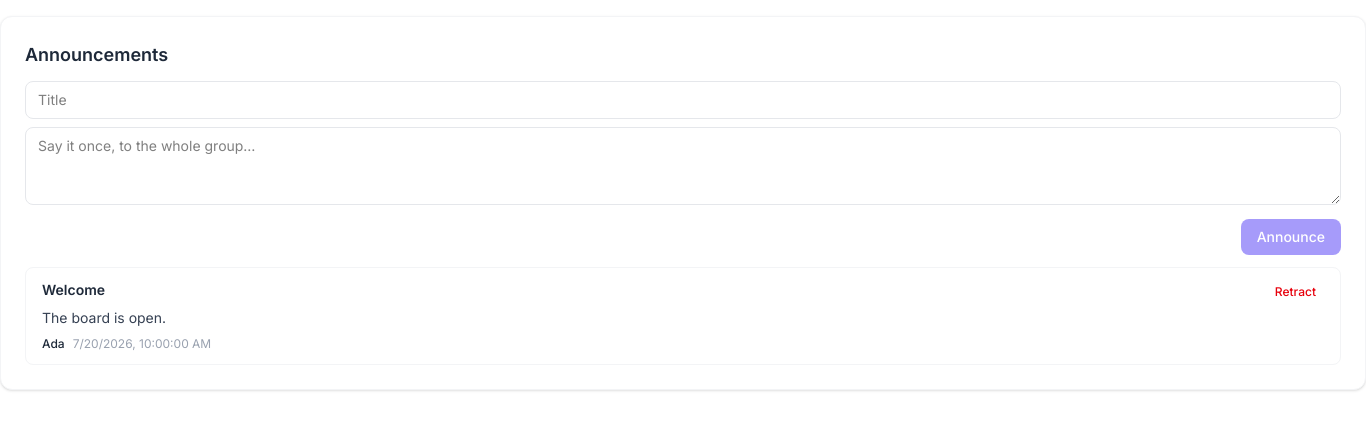
GroupAnnouncementsSection › preserves the composed draft when a send is refused
Expected: the heading "Welcome" is shown, x1=42 y1=280 x2=105 y2=300
Step 1. Type "Kept title" into the field with test id "announcement-compose-title" → (683, 100), box x1=25 y1=81 x2=1341 y2=119
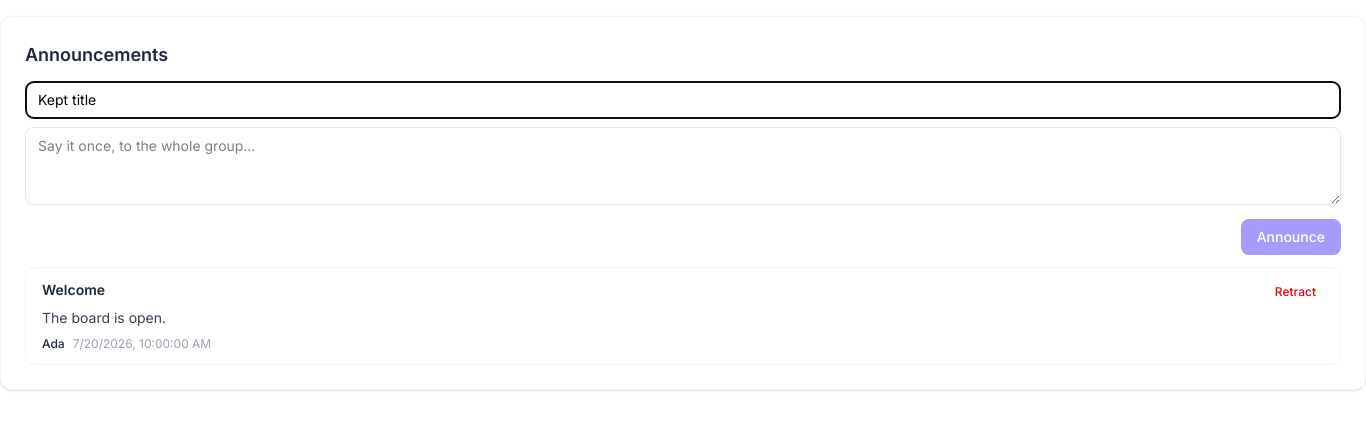
Step 2. Type "Kept body" into the text box with test id "announcement-compose-body" → (683, 166), box x1=25 y1=127 x2=1341 y2=205
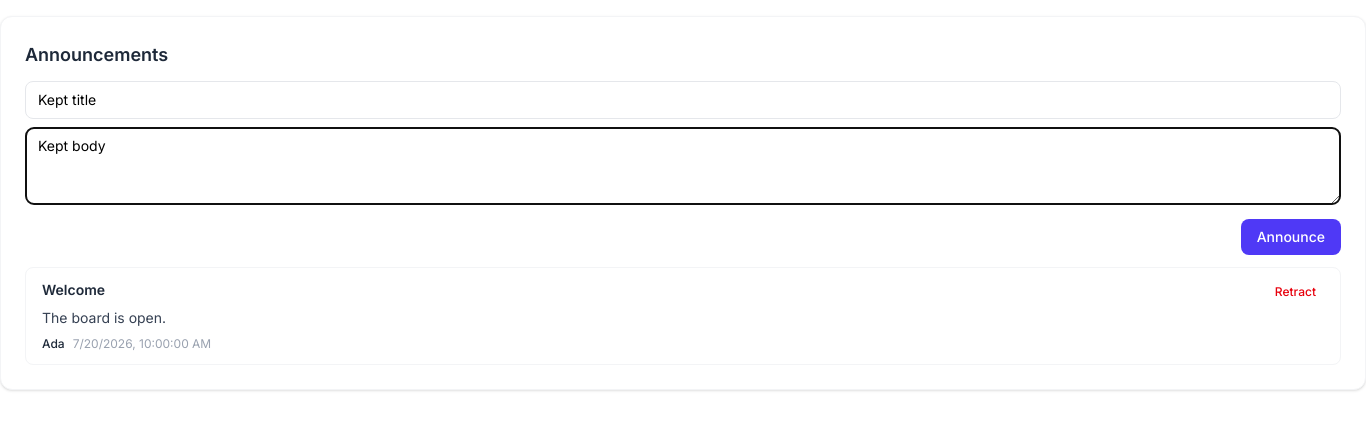
Step 3. Click the button with test id "announcement-send" → (1291, 237), box x1=1241 y1=219 x2=1341 y2=255
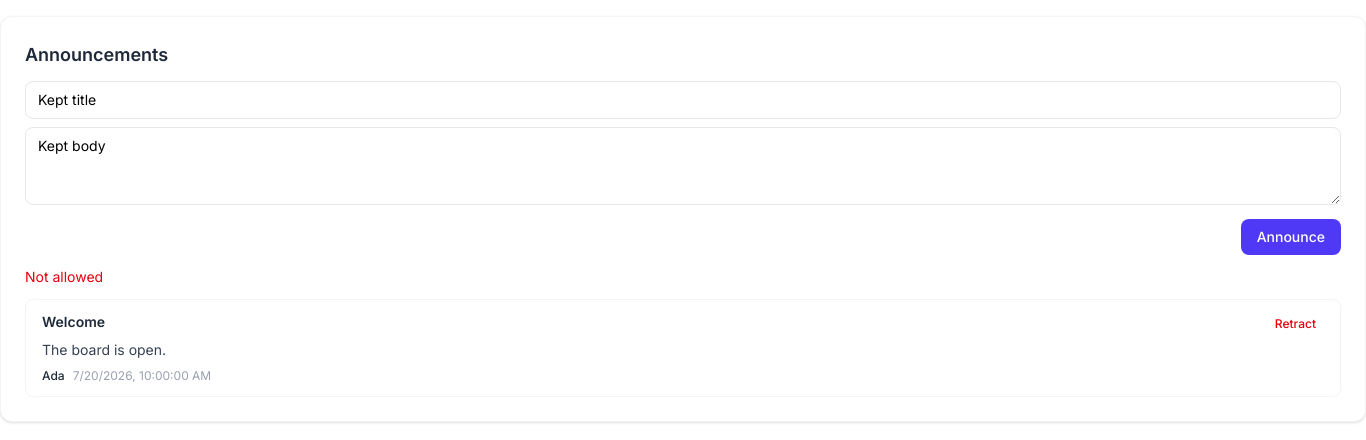
Now the message "Not allowed" is shown, box x1=25 y1=268 x2=103 y2=285
